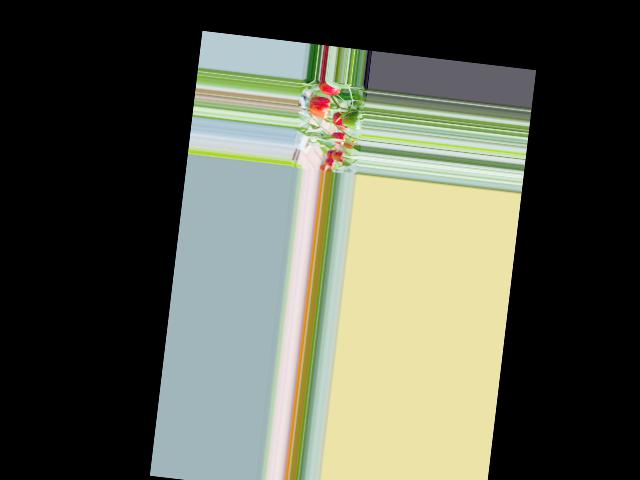bell_pepper: (326, 130, 349, 147)
